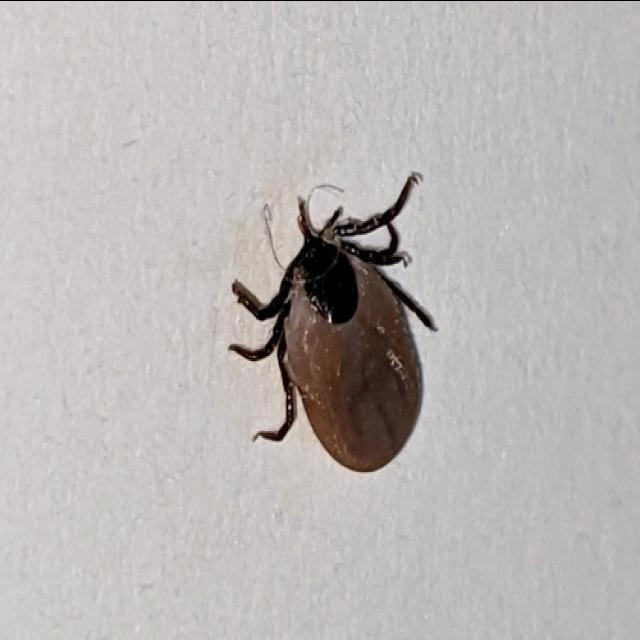Ixodes Ricinus-F-Fed: (227, 171, 435, 474)
